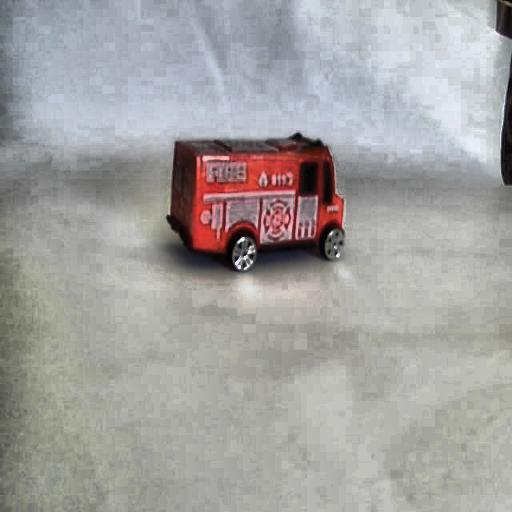fire_truck: (170, 143, 343, 268)
